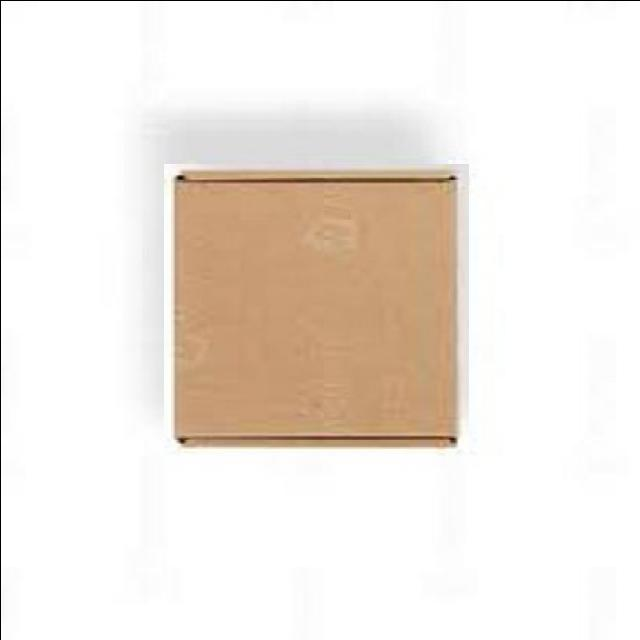normal: (163, 163, 468, 452)
